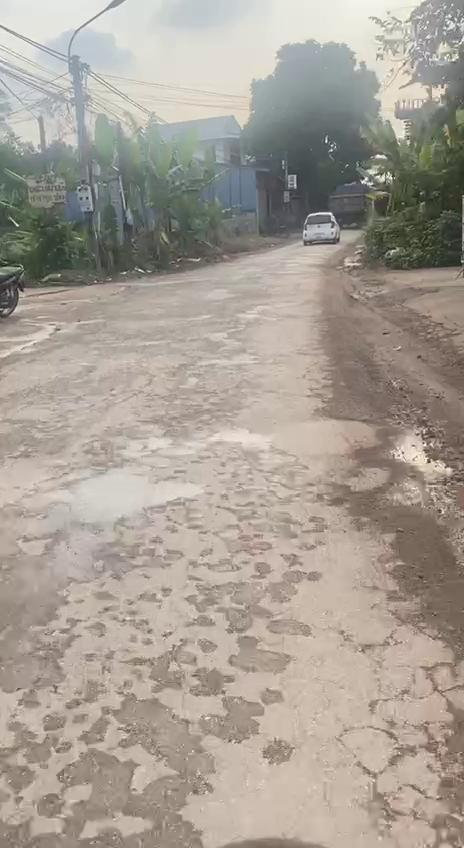pothole: (369, 660, 464, 848), (377, 415, 464, 513)
